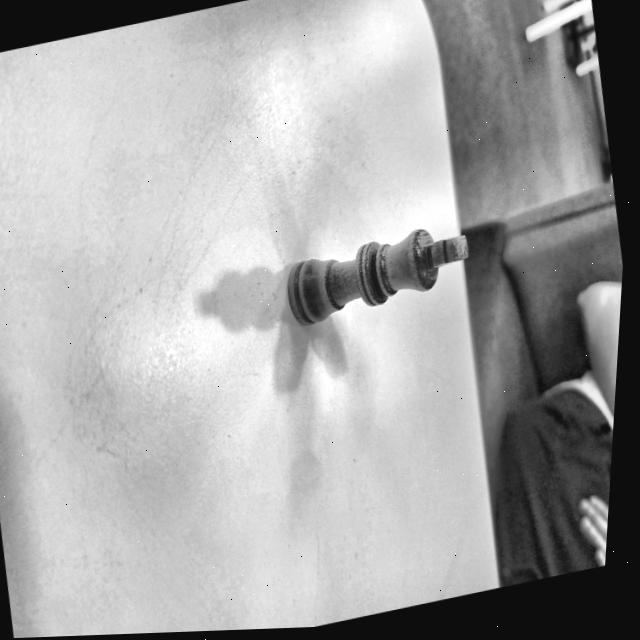black-king: (287, 227, 468, 325)
